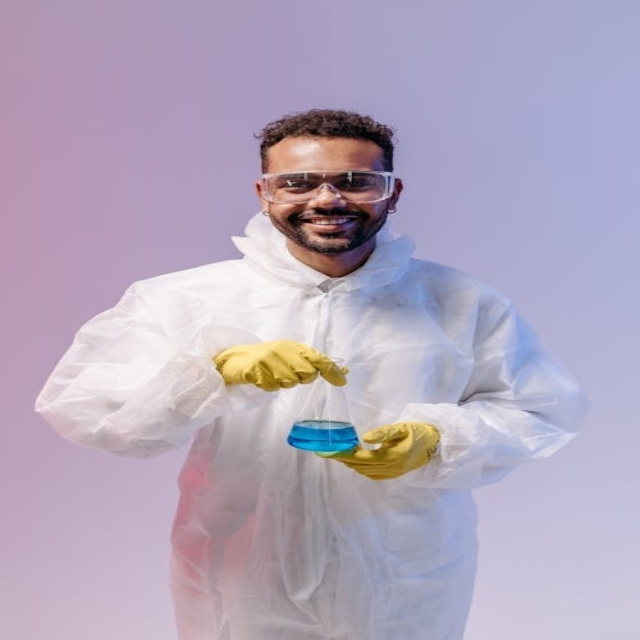Gafas: (260, 170, 398, 202)
Guantes: (314, 422, 440, 481), (214, 339, 347, 391)
Sin_mascara: (291, 211, 362, 250)
